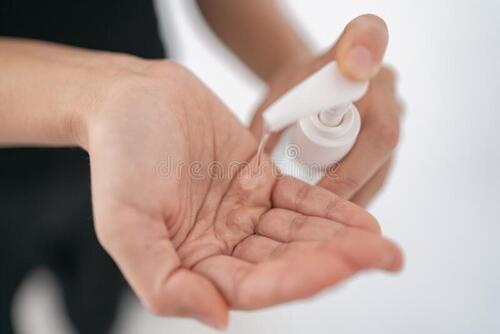sanitizer: (256, 65, 364, 183)
